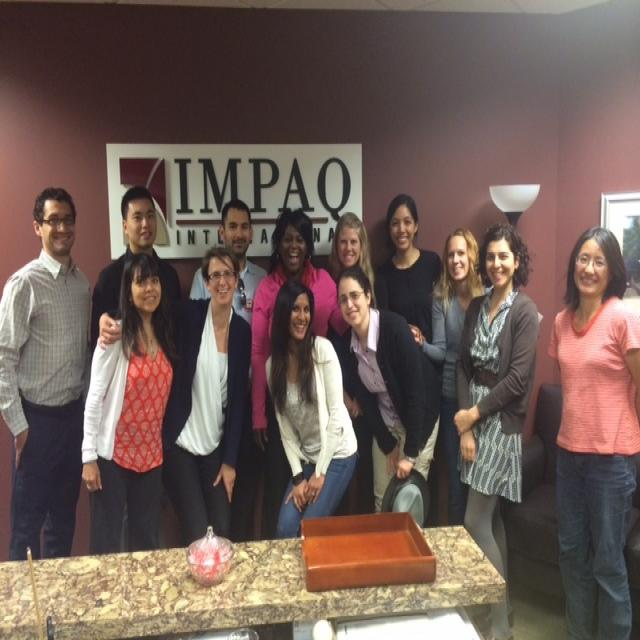body: (250, 207, 427, 541), (545, 221, 639, 639), (451, 220, 541, 639), (0, 184, 95, 563), (80, 251, 184, 557), (151, 245, 253, 547), (333, 261, 446, 516), (408, 226, 495, 530), (263, 278, 360, 542), (86, 184, 184, 365), (327, 208, 378, 520), (189, 196, 273, 332), (373, 190, 444, 346), (619, 212, 640, 544)
